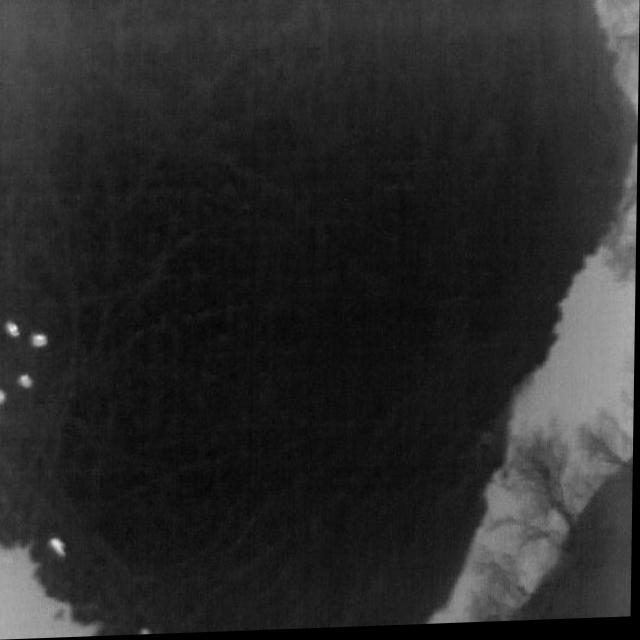deer: (51, 537, 68, 558), (30, 331, 49, 348), (5, 320, 22, 337), (18, 373, 36, 389), (0, 389, 8, 406), (0, 469, 1, 491), (0, 413, 1, 427)
